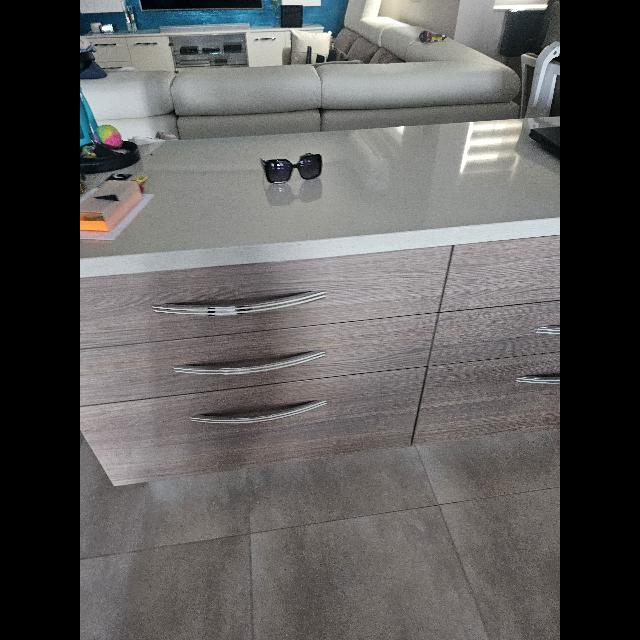Sunglasses: (260, 153, 322, 184)
